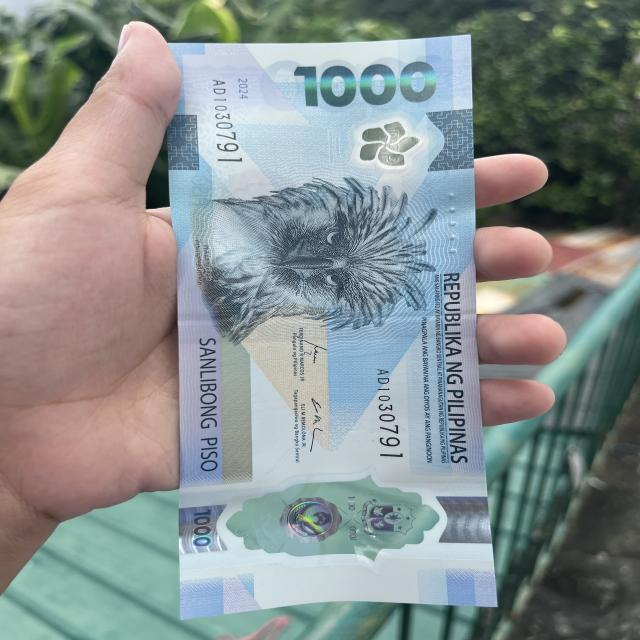clear_window: (220, 476, 438, 580)
eagle: (185, 186, 431, 328)
sampaguita: (324, 118, 439, 182)
security_thread: (176, 301, 477, 342)
serial_number: (364, 367, 420, 475), (204, 73, 260, 174)
value_watermark: (188, 498, 220, 564)
